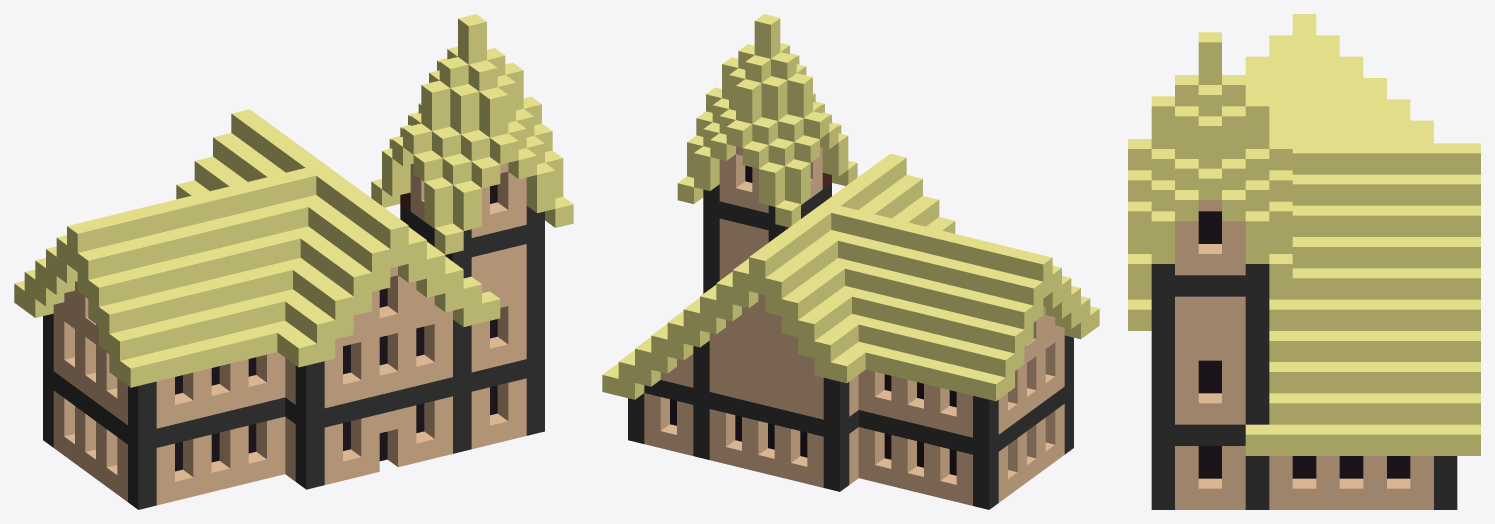
The model's file is Castle.glb.
The picture shows the model from 3 angles, left to right: view 1: azimuth 30°, elevation 25°; view 2: azimuth 150°, elevation 25°; view 3: azimuth 270°, elevation 25°; orthographic projection. The views are drawn at different scales.
Visible parts, largest first — view 1: Castle; view 2: Castle; view 3: Castle.
Part boxes in pixels (box(x1,y1,x2,y2)): Castle: box(14, 14, 573, 509); Castle: box(602, 14, 1099, 509); Castle: box(1128, 14, 1480, 509).
Bounding box in the file's own units: 23 × 21 × 15.
Materials: 3 (1 with a texture image).
